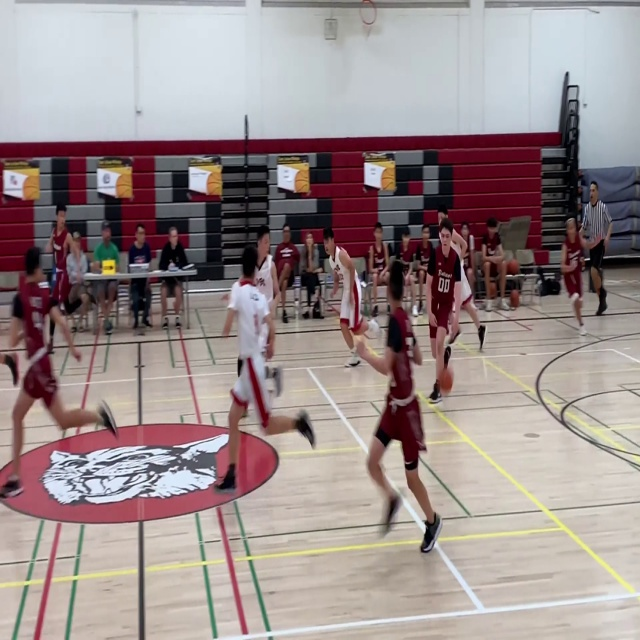Basketball: (438, 366, 454, 391)
